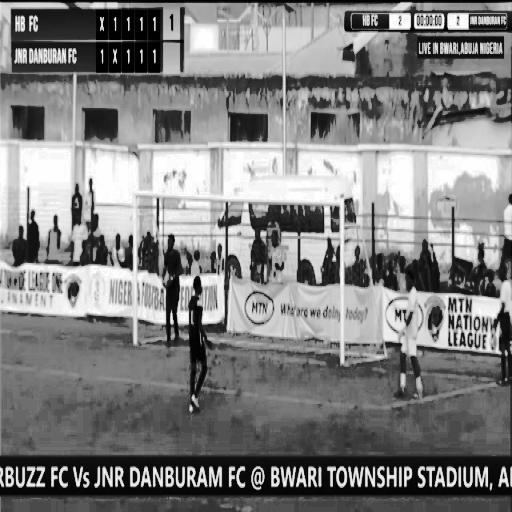ball: (161, 271, 174, 289)
keeper1: (158, 220, 184, 346)
keeper2: (394, 264, 430, 404)
referee: (490, 254, 512, 387)
team2: (188, 268, 210, 418)
